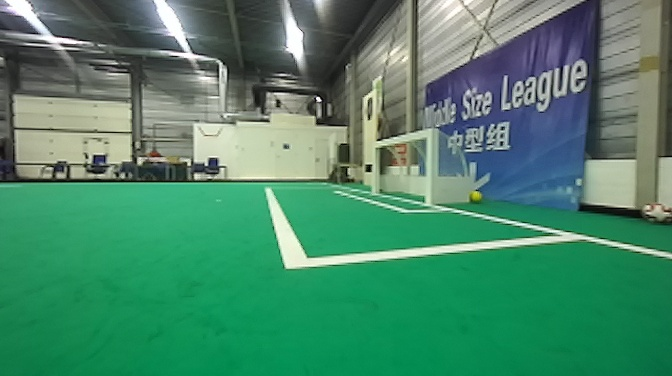ball: (630, 194, 672, 223), (468, 185, 489, 204)
goalpost: (417, 127, 440, 209), (364, 134, 384, 204)
